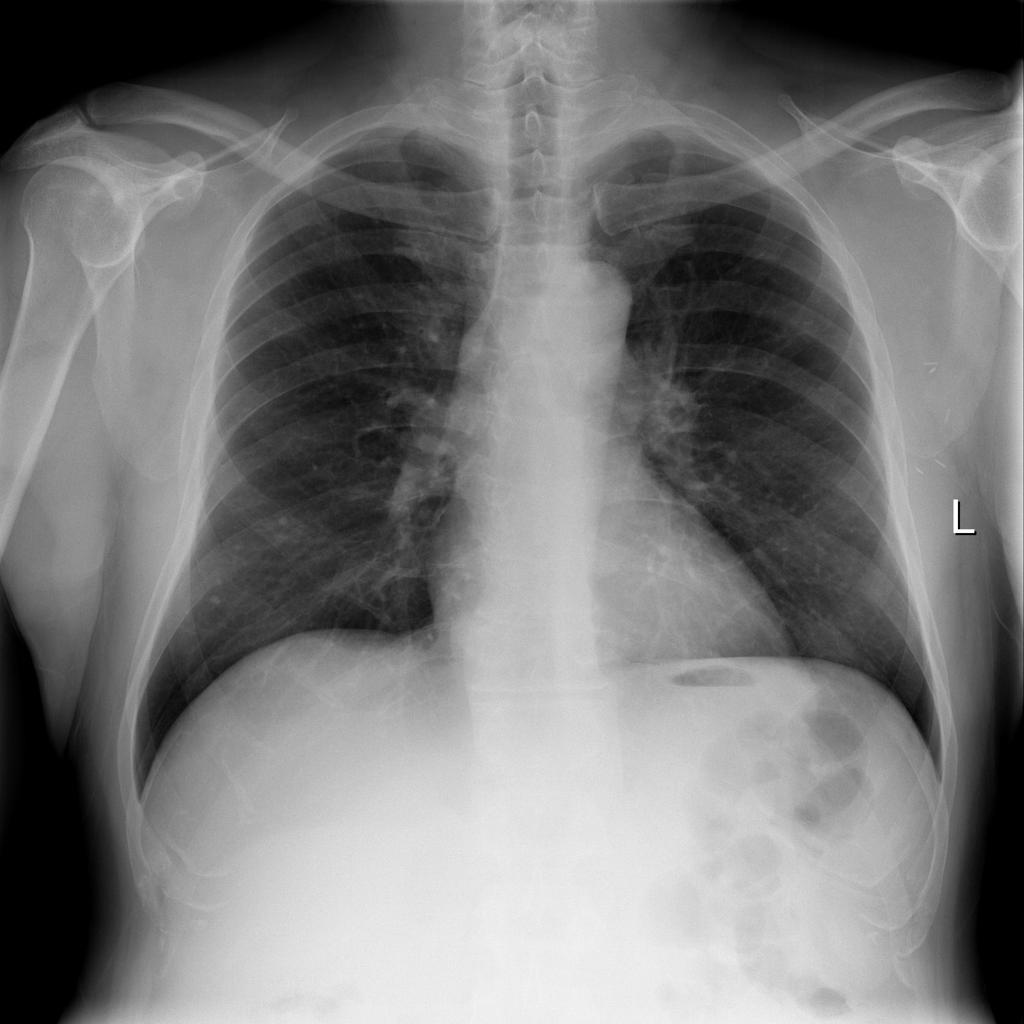nodule: (194, 575, 246, 623)
